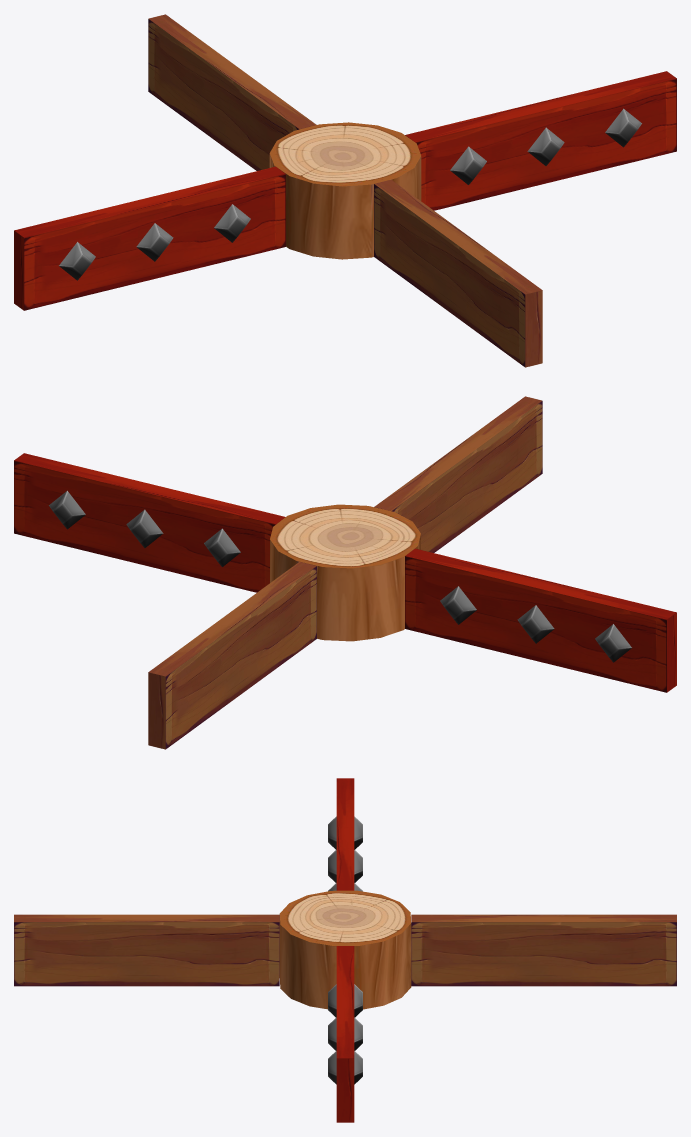
Rendered from four_blade_double_02.fbx.
The picture shows the model from 3 angles, top to bottom: view 1: azimuth 30°, elevation 25°; view 2: azimuth 150°, elevation 25°; view 3: azimuth 270°, elevation 25°; orthographic projection. The views are drawn at different scales.
Visible parts, largest first — view 1: four_blade_double_02; view 2: four_blade_double_02; view 3: four_blade_double_02.
Boxes of the visible parts, bbox=[...] form: four_blade_double_02: bbox=[14, 14, 676, 367]; four_blade_double_02: bbox=[14, 396, 676, 749]; four_blade_double_02: bbox=[14, 778, 676, 1122].
Bounding box in the file's own units: 374 × 40 × 374.
